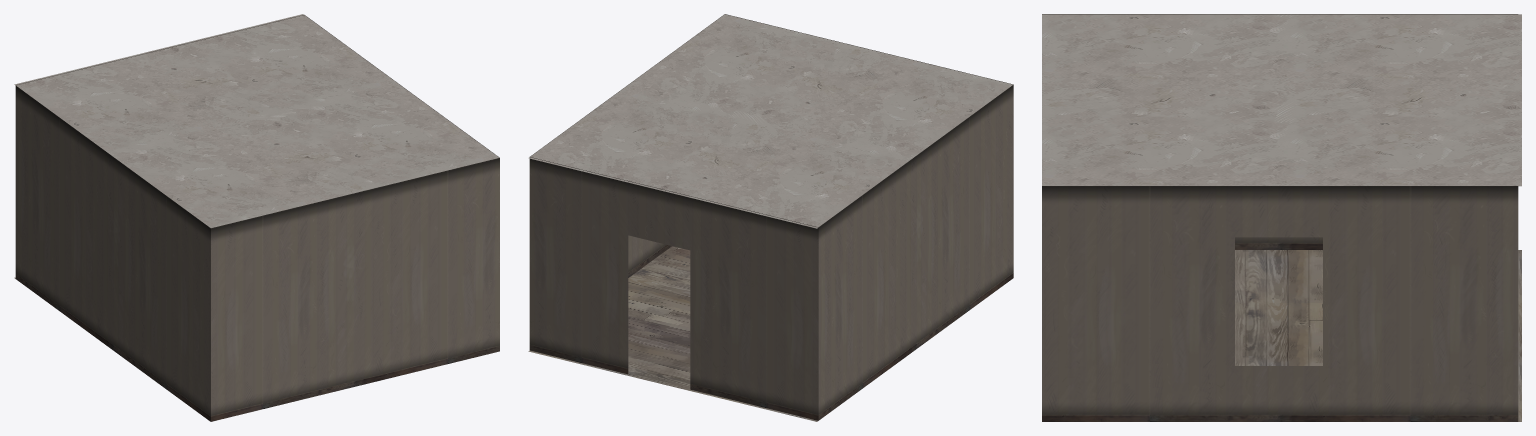
The model's file is deskwalls.fbx.
The picture shows the model from 3 angles, left to right: view 1: azimuth 30°, elevation 25°; view 2: azimuth 150°, elevation 25°; view 3: azimuth 270°, elevation 25°; orthographic projection. The views are drawn at different scales.
Parts seen in each view (by area): view 1: desk_walls, desk_roof; view 2: desk_walls, desk_roof, deskfloor; view 3: desk_walls, desk_roof, deskfloor.
Boxes of the visible parts, <box> form: desk_walls: <box>15,15,499,421</box>; desk_roof: <box>14,14,499,227</box>; desk_walls: <box>529,14,1013,420</box>; desk_roof: <box>528,14,1012,228</box>; deskfloor: <box>528,246,817,421</box>; desk_walls: <box>1042,14,1518,421</box>; desk_roof: <box>1042,14,1521,186</box>; deskfloor: <box>1235,250,1521,421</box>.
Bounding box in the file's own units: 482 × 309 × 568.
